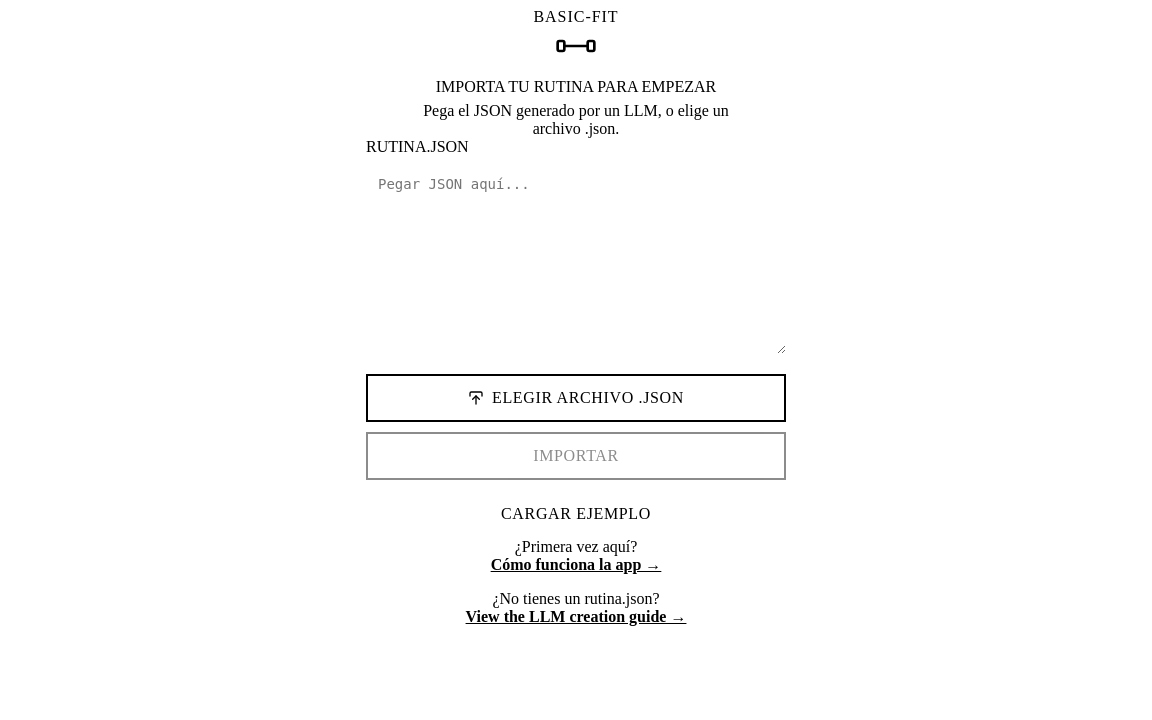
ImportScreen — onboarding revisit link (AC7) › dismissing the revisited onboarding overlay (Saltar) leaves ImportScreen interactive underneath (AC6)
The image size is (1152, 720).
Click the link "Cómo funciona la app →" at (576, 564), box [491,556,661,573]
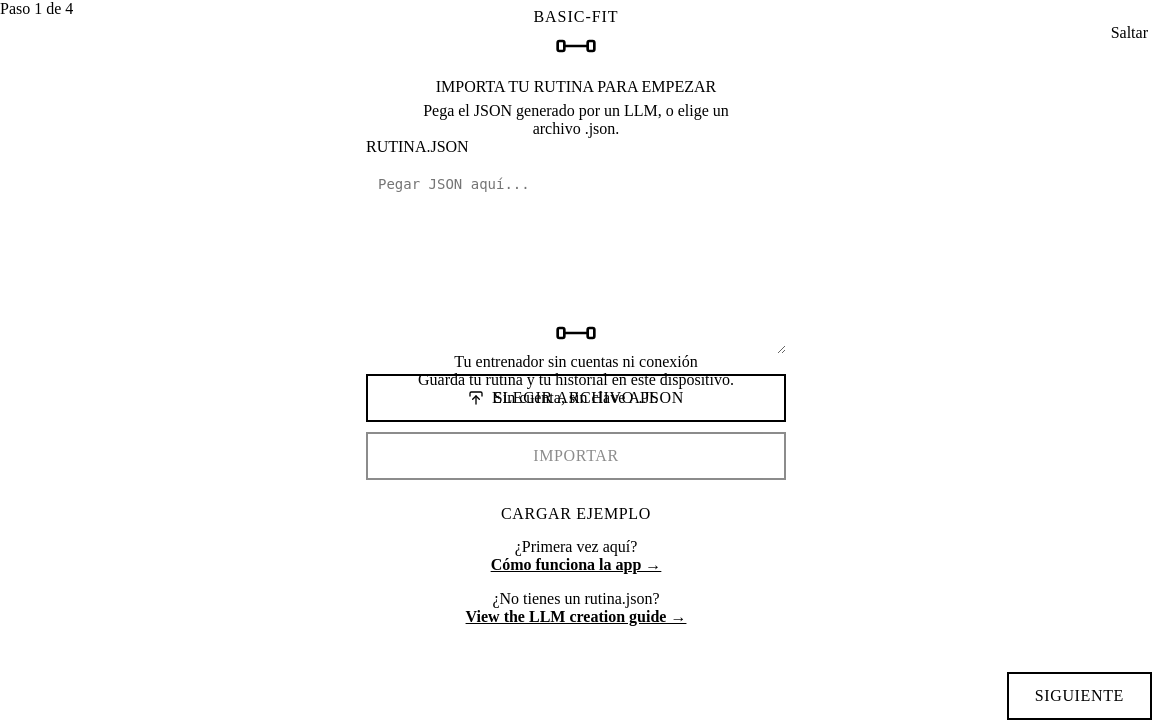
Click the button "Saltar" at (1129, 33), box [1107,18,1151,48]
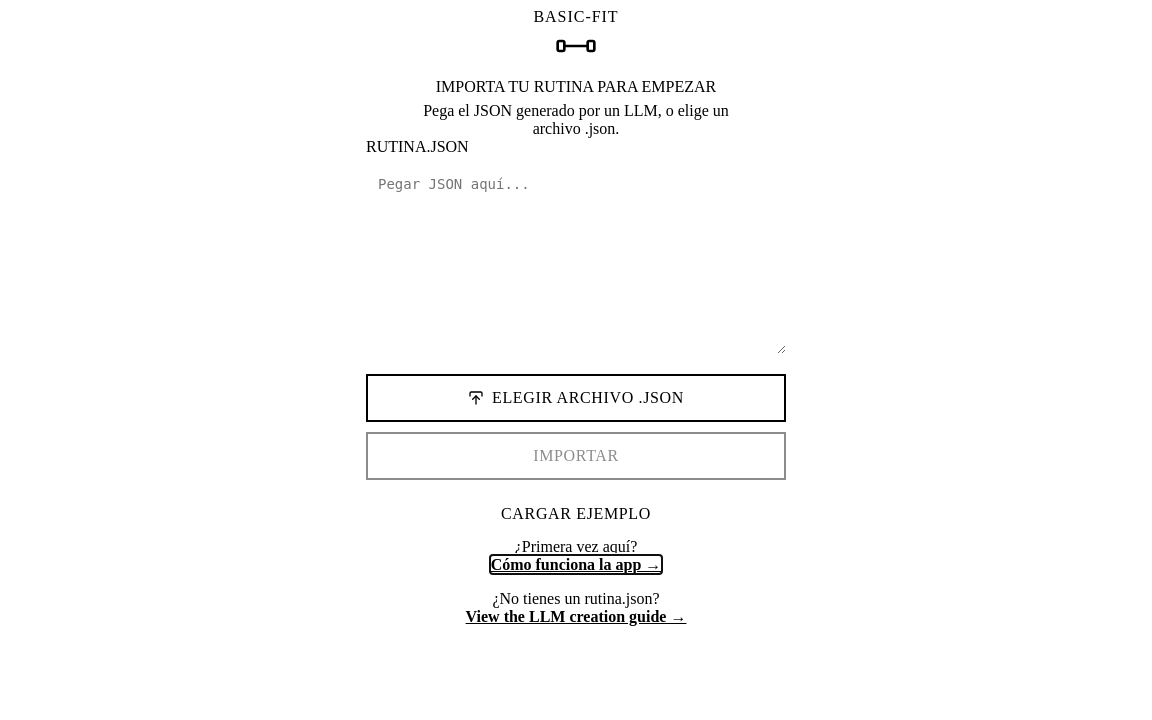
Expected: the text box labelled "rutina.json" is shown, [366,162,786,354]
Expected: the dialog is gone
